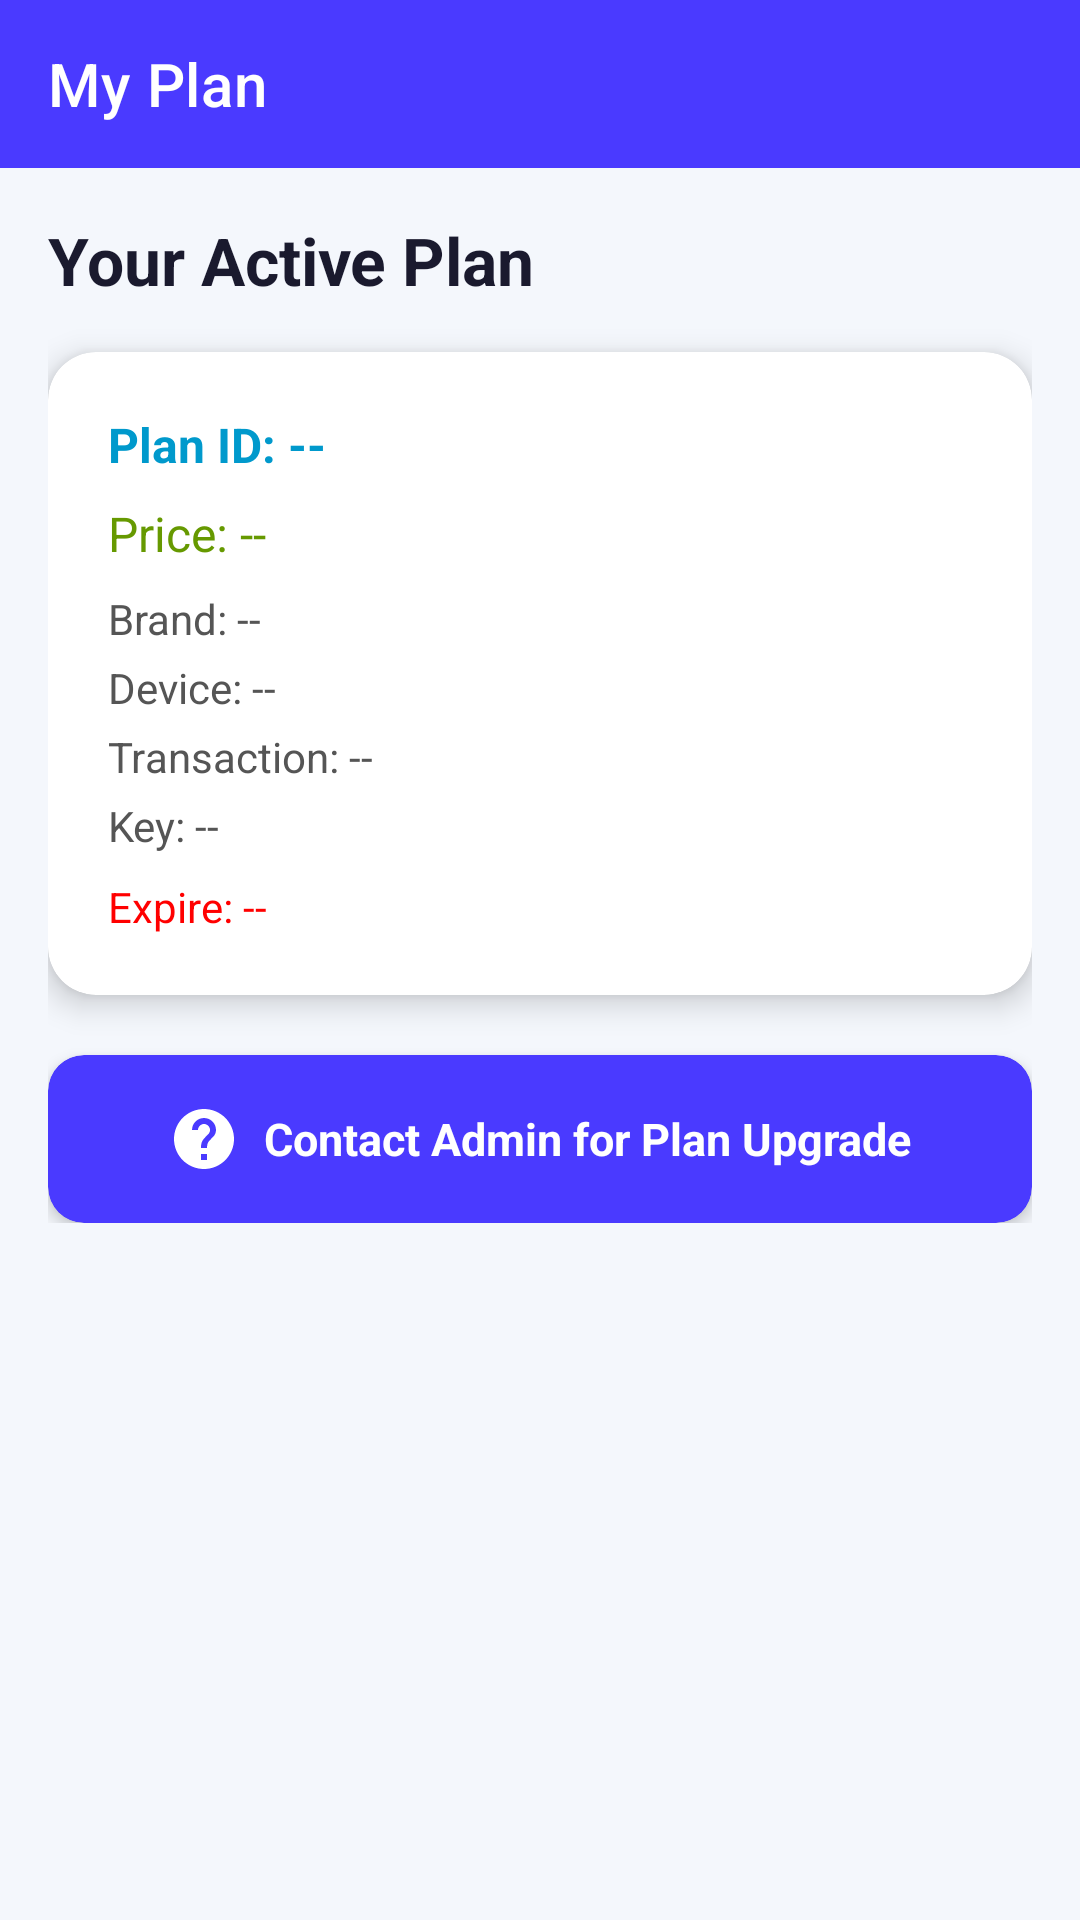

Locate icon controls on the screen. Image size 1080 × 1920, boxes as (x1, y1, x2, y2).
support: (174, 1109, 234, 1169)
